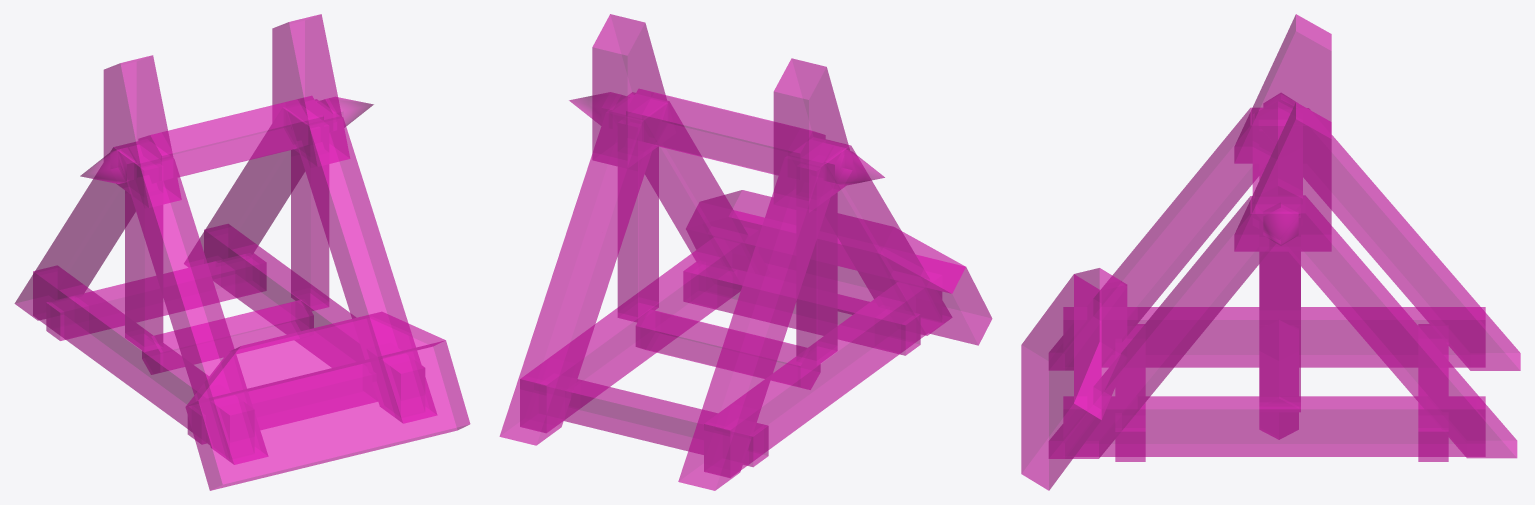
The model's file is SM_Veh_Catapult_01_Collision.fbx.
The picture shows the model from 3 angles, left to right: view 1: azimuth 30°, elevation 25°; view 2: azimuth 150°, elevation 25°; view 3: azimuth 270°, elevation 25°; orthographic projection. The views are drawn at different scales.
Visible parts, largest first — view 1: SM_Veh_Catapult_01_Collision; view 2: SM_Veh_Catapult_01_Collision; view 3: SM_Veh_Catapult_01_Collision.
Part boxes in pixels (<box>): SM_Veh_Catapult_01_Collision: <box>14,14,470,490</box>; SM_Veh_Catapult_01_Collision: <box>499,14,992,490</box>; SM_Veh_Catapult_01_Collision: <box>1021,14,1520,490</box>.
Size of the model in its own units: 388 by 424 by 532.
